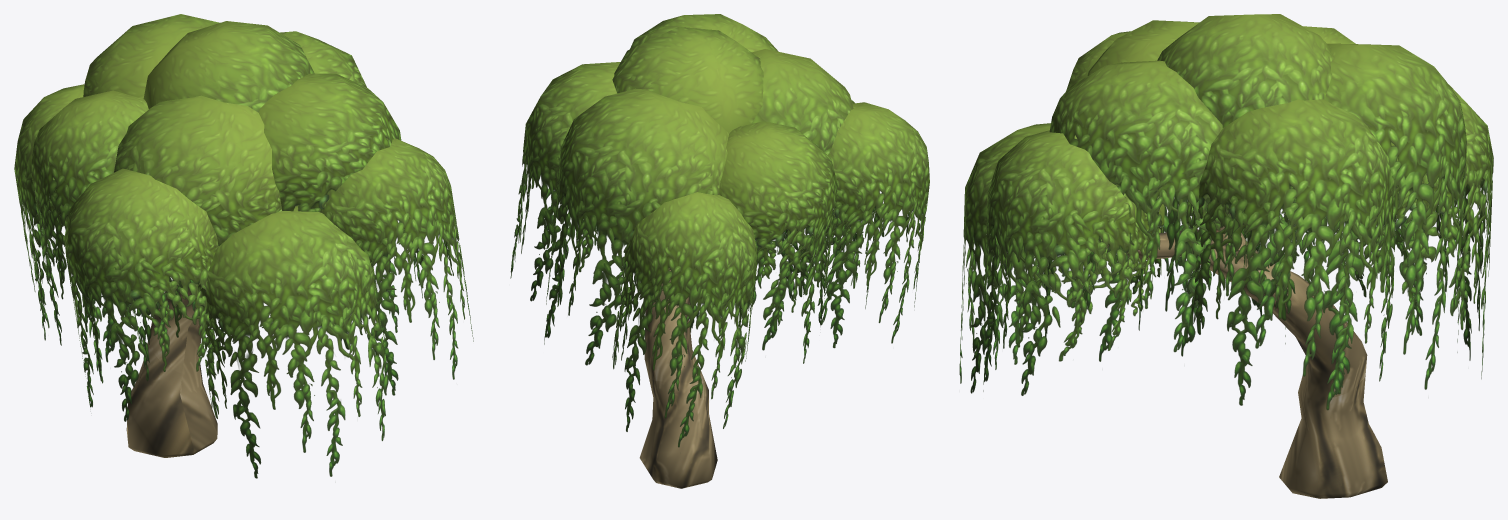
The model's file is tree.glb.
The picture shows the model from 3 angles, left to right: view 1: azimuth 30°, elevation 25°; view 2: azimuth 150°, elevation 25°; view 3: azimuth 270°, elevation 25°; orthographic projection. The views are drawn at different scales.
Parts seen in each view (by area): view 1: Object_83; view 2: Object_83; view 3: Object_83.
Boxes of the visible parts, left/top/right/bottom form: Object_83: left=14, top=14, right=473, bottom=478; Object_83: left=510, top=14, right=929, bottom=488; Object_83: left=959, top=14, right=1493, bottom=498.
Size of the model in its own units: 4.03 by 4.5 by 4.51.
Materials: 2 (2 with a texture image).
